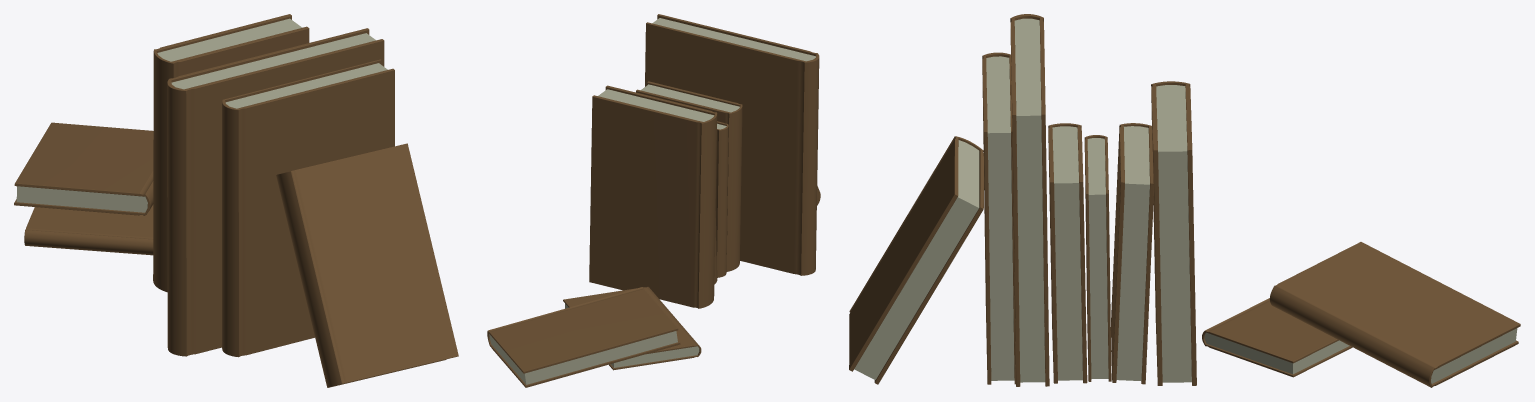
File: LeatherBooks.fbx
3 renders of one model, left to right at view 1: azimuth 30°, elevation 25°; view 2: azimuth 150°, elevation 25°; view 3: azimuth 270°, elevation 25°, orthographic. The views are drawn at different scales.
Visible parts, largest first — view 1: polySurface42; view 2: polySurface42; view 3: polySurface42.
Part boxes in pixels (x1,y1,x2,y2): polySurface42: [14, 14, 458, 387]; polySurface42: [487, 14, 820, 387]; polySurface42: [849, 14, 1520, 387].
Bounding box in the file's own units: 1.12 × 1.34 × 2.98.
